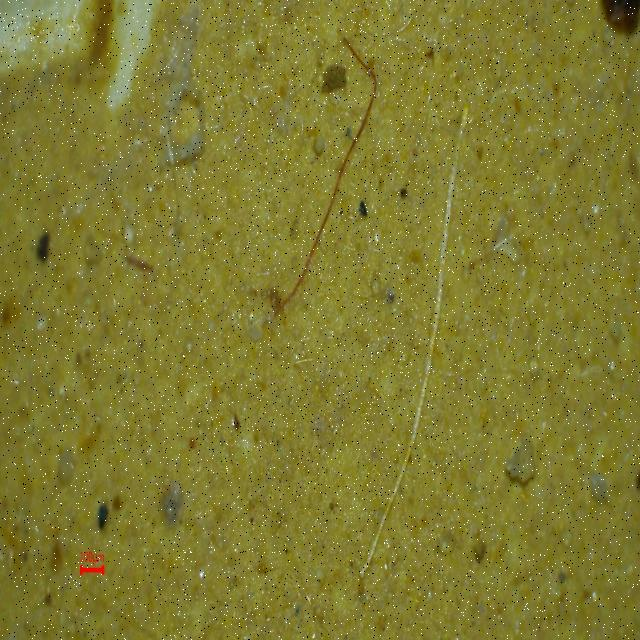fibers: (359, 101, 481, 586), (252, 36, 390, 322)
